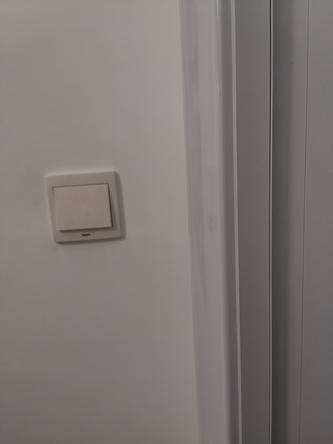switch: (48, 181, 120, 228)
